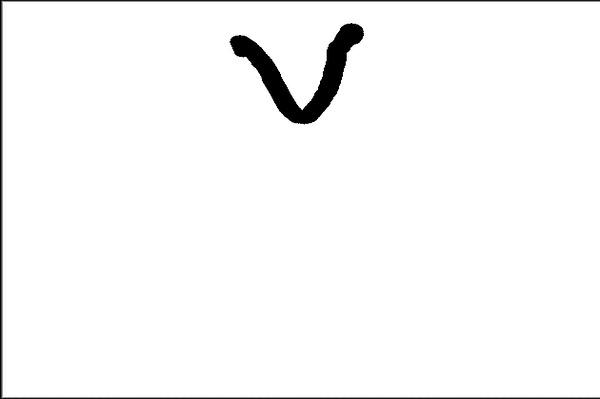V: (230, 18, 364, 125)
